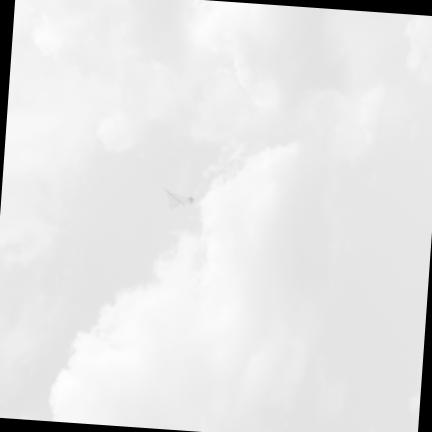Shahed: (163, 187, 193, 208)
